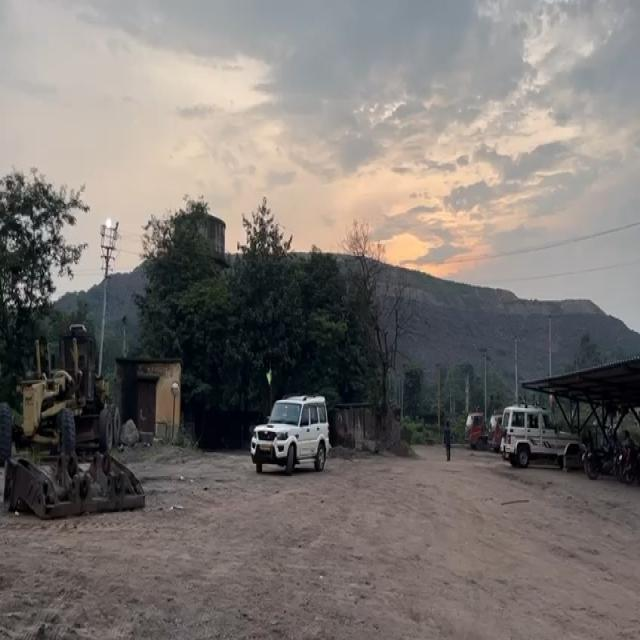light_vehicle: (250, 395, 330, 475), (499, 405, 571, 469)
